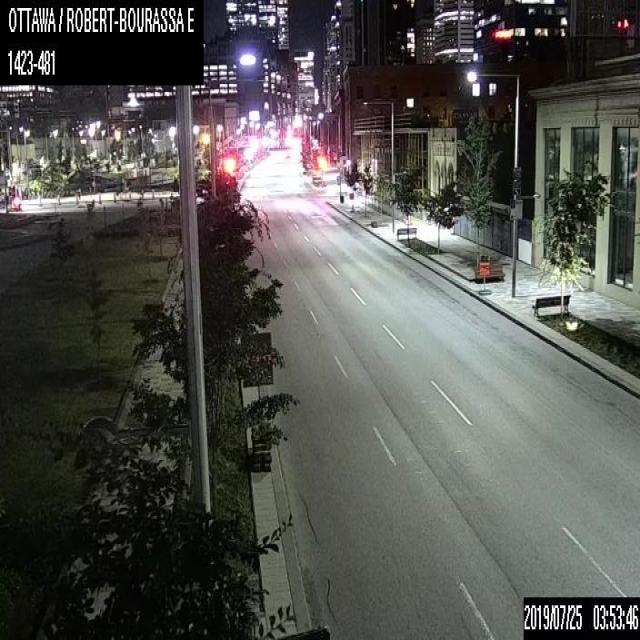construction: (240, 332, 273, 471), (478, 259, 489, 293)
